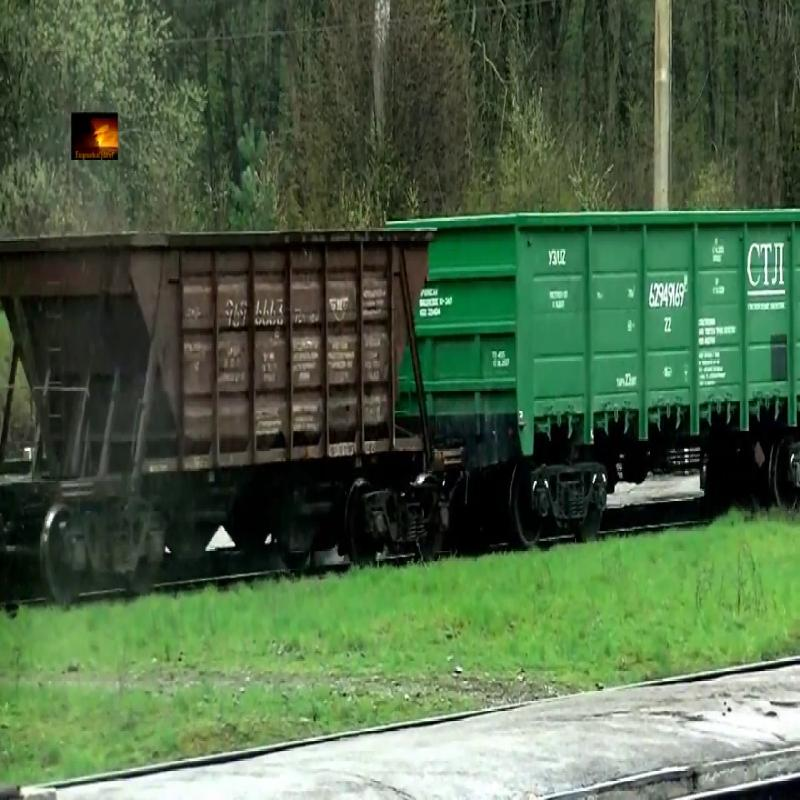train: (1, 223, 439, 472), (398, 208, 800, 473)
